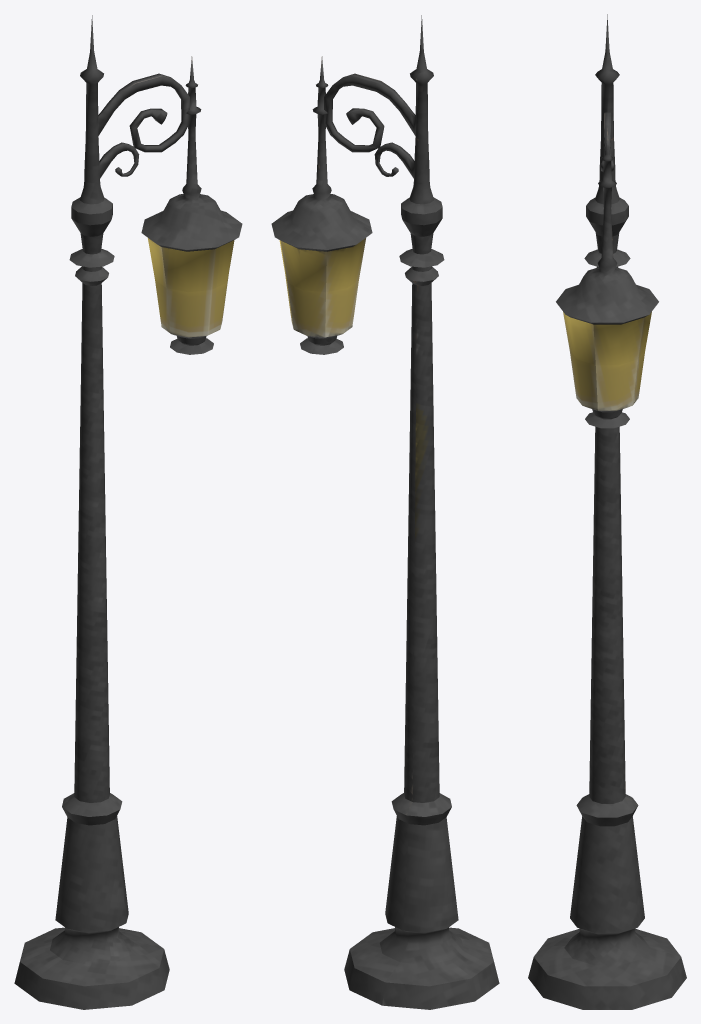
File: Lantern002.fbx
3 views of the same model, side by side, from view 1: azimuth 30°, elevation 25°; view 2: azimuth 150°, elevation 25°; view 3: azimuth 270°, elevation 25° (orthographic).
Parts seen in each view (by area): view 1: Cylinder.010; view 2: Cylinder.010; view 3: Cylinder.010.
Boxes of the visible parts, x1,y1,x2,y2 form: Cylinder.010: (14,15,242,1009); Cylinder.010: (271,15,499,1009); Cylinder.010: (528,14,686,1009).
Size of the model in its own units: 393 by 1738 by 260.
